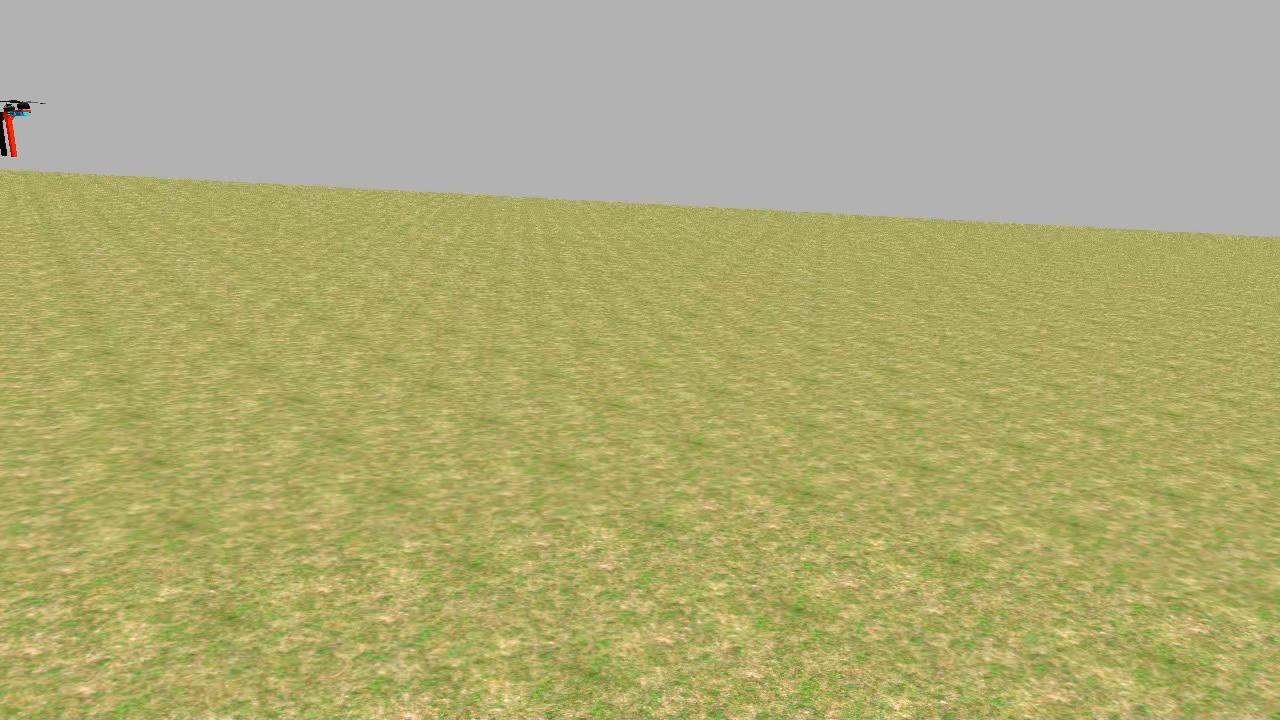UAV: (0, 94, 42, 172)
